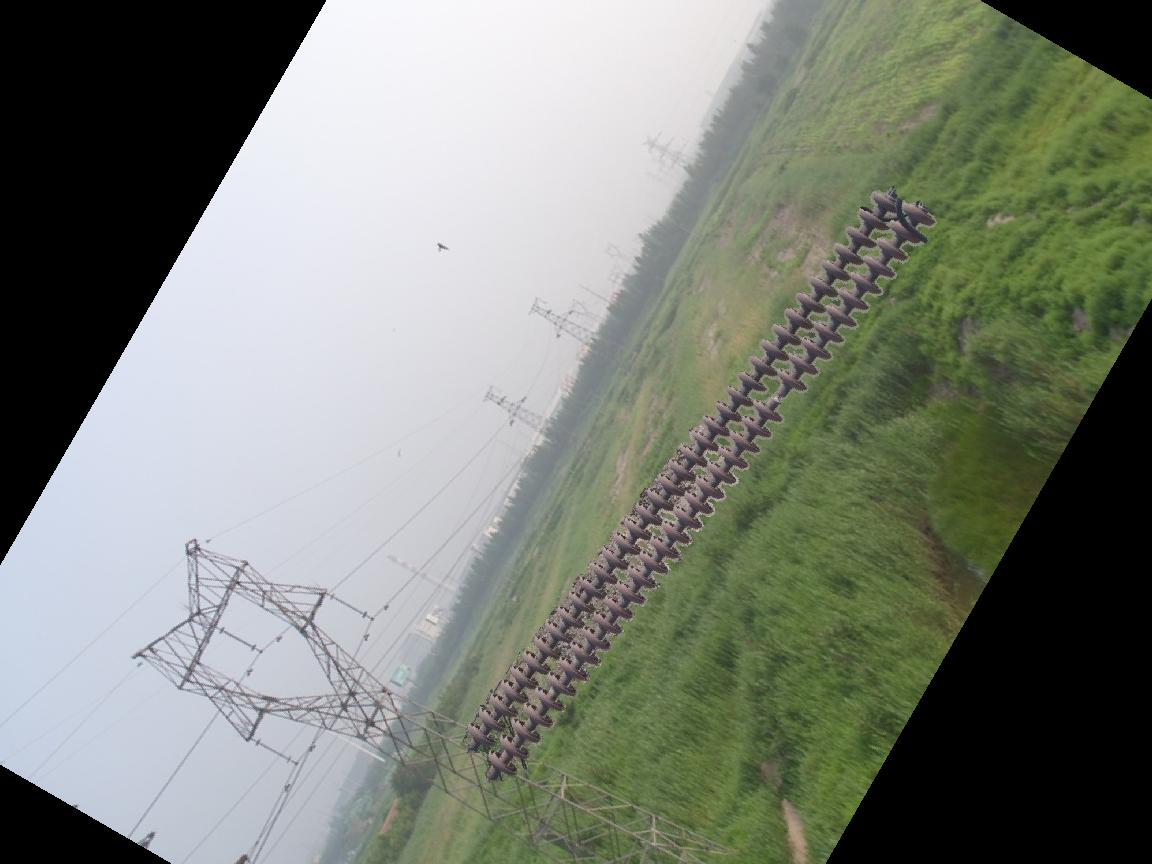insulator: (467, 185, 938, 779)
insulator_stringdrop: (750, 367, 808, 427)
